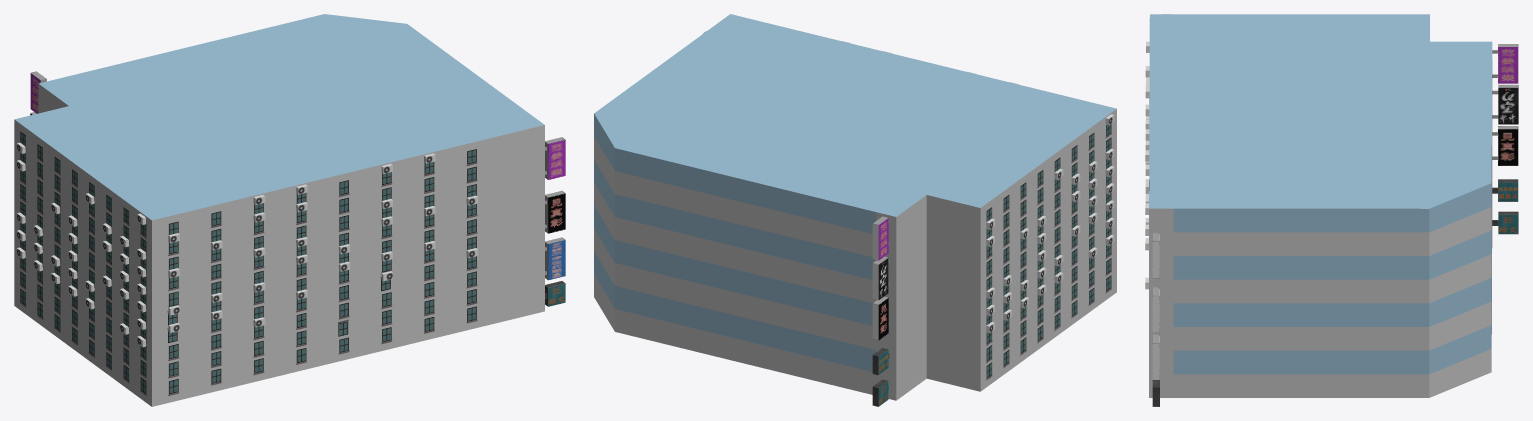
The model's file is 111StationFix04.fbx.
The picture shows the model from 3 angles, left to right: view 1: azimuth 30°, elevation 25°; view 2: azimuth 150°, elevation 25°; view 3: azimuth 270°, elevation 25°; orthographic projection. The views are drawn at different scales.
Visible parts, largest first — view 1: Cube.469; view 2: Cube.469; view 3: Cube.469.
Part boxes in pixels (x1,y1,x2,y2): Cube.469: [14, 14, 565, 406]; Cube.469: [594, 14, 1116, 406]; Cube.469: [1145, 14, 1518, 406].
Size of the model in its own units: 41.33 by 17.6 by 31.46.
